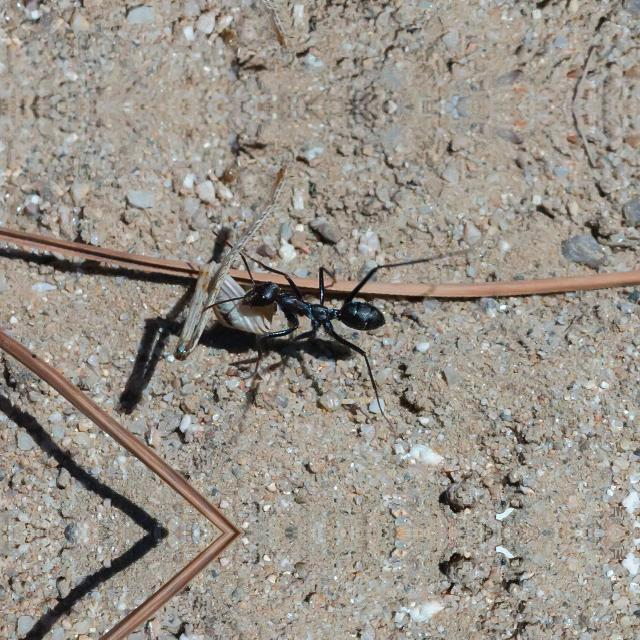Cataglyphis: (215, 254, 402, 354)
